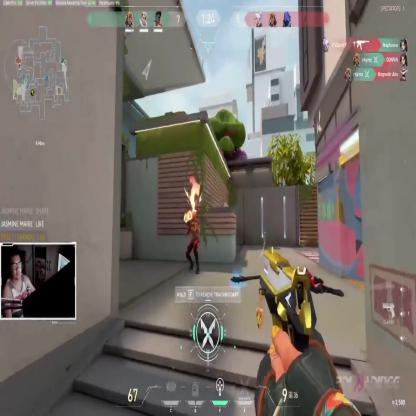enemy: (184, 212, 202, 275)
enemy_head: (191, 213, 196, 222)
